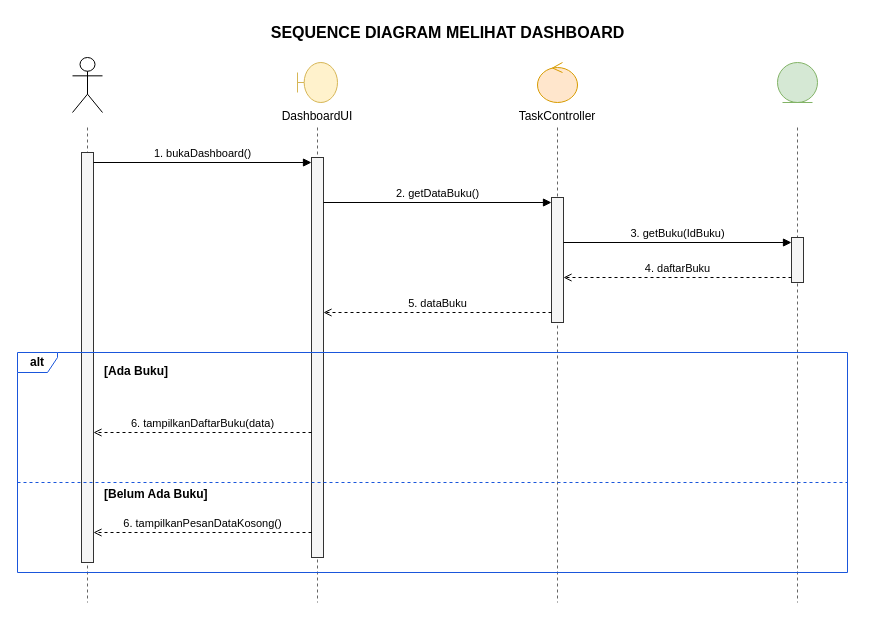
This 885x621 diagram has some shape labels left out. The centre of each missing label's shape, as x and y in pixels:
"Database" goes at (797,82).
"Mahasiswa" goes at (87,84).
